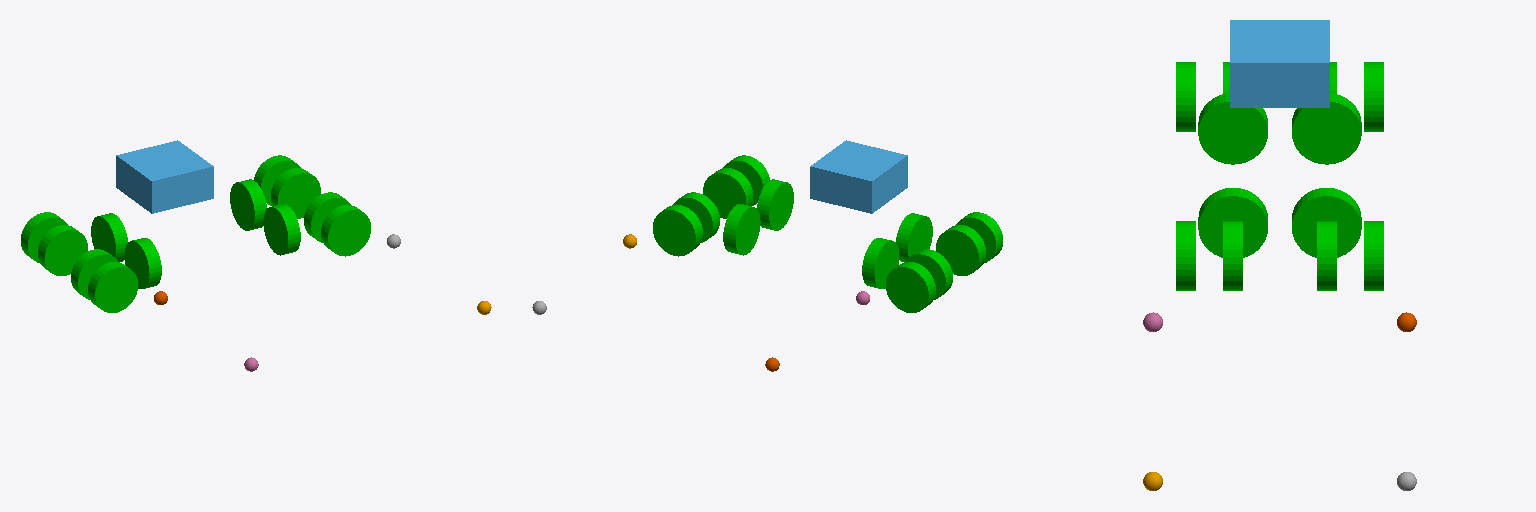
--- Facts derived from the render (not from the file) ---
The picture shows the robot from 3 angles, left to right: view 1: azimuth 30°, elevation 25°; view 2: azimuth 150°, elevation 25°; view 3: azimuth 270°, elevation 25°; orthographic projection.
Robot: go1 — 30 links, 29 joints (12 revolute, 17 fixed); root link trunk; default pose: all joints at 0 but 4 set to mid-range because 0 is outside their limits (FR_calf_joint = -1.85, FL_calf_joint = -1.85, RR_calf_joint = -1.85, RL_calf_joint = -1.85).
Links seen in each view (by area): view 1: computer, FR_calf_rotor, RR_calf_rotor, RL_thigh_rotor, FL_thigh_rotor, FR_hip_rotor, FL_hip_rotor, RR_hip_rotor, RL_hip_rotor, RL_calf_rotor, RR_thigh_rotor, FR_thigh_rotor (+1 smaller); view 2: computer, FL_calf_rotor, RL_calf_rotor, RR_thigh_rotor, FR_thigh_rotor, FL_hip_rotor, FR_hip_rotor, RL_hip_rotor, RR_hip_rotor, RR_calf_rotor, RL_thigh_rotor, FL_thigh_rotor (+1 smaller); view 3: computer, RR_hip_rotor, RL_hip_rotor, FR_hip_rotor, FL_hip_rotor, FR_thigh_rotor, FR_calf_rotor, FL_thigh_rotor, FL_calf_rotor, RR_calf_rotor, RL_calf_rotor.
Boxes of the visible links, left/top/right/bottom form: computer: left=116, top=140, right=213, bottom=213; FR_calf_rotor: left=321, top=205, right=370, bottom=256; RR_calf_rotor: left=88, top=262, right=137, bottom=312; RL_thigh_rotor: left=38, top=225, right=87, bottom=275; FL_thigh_rotor: left=271, top=168, right=320, bottom=218; FR_hip_rotor: left=263, top=204, right=300, bottom=255; FL_hip_rotor: left=230, top=179, right=266, bottom=230; RR_hip_rotor: left=125, top=238, right=161, bottom=288; RL_hip_rotor: left=91, top=213, right=127, bottom=261; RL_calf_rotor: left=21, top=212, right=67, bottom=262; RR_thigh_rotor: left=71, top=249, right=117, bottom=299; FR_thigh_rotor: left=304, top=192, right=350, bottom=242; computer: left=810, top=140, right=907, bottom=213; FL_calf_rotor: left=653, top=205, right=702, bottom=256; RL_calf_rotor: left=886, top=262, right=935, bottom=312; RR_thigh_rotor: left=936, top=225, right=985, bottom=275; FR_thigh_rotor: left=703, top=168, right=752, bottom=218; FL_hip_rotor: left=723, top=204, right=760, bottom=255; FR_hip_rotor: left=757, top=179, right=793, bottom=230; RL_hip_rotor: left=862, top=238, right=898, bottom=288; RR_hip_rotor: left=896, top=213, right=932, bottom=261; RR_calf_rotor: left=956, top=212, right=1002, bottom=262; RL_thigh_rotor: left=906, top=249, right=952, bottom=299; FL_thigh_rotor: left=673, top=192, right=719, bottom=242; computer: left=1230, top=20, right=1329, bottom=107; RR_hip_rotor: left=1198, top=93, right=1267, bottom=164; RL_hip_rotor: left=1292, top=93, right=1361, bottom=164; FR_hip_rotor: left=1198, top=188, right=1267, bottom=257; FL_hip_rotor: left=1292, top=188, right=1361, bottom=257; FR_thigh_rotor: left=1223, top=221, right=1242, bottom=290; FR_calf_rotor: left=1176, top=221, right=1195, bottom=290; FL_thigh_rotor: left=1317, top=221, right=1336, bottom=290; FL_calf_rotor: left=1364, top=221, right=1383, bottom=290; RR_calf_rotor: left=1176, top=62, right=1195, bottom=131; RL_calf_rotor: left=1364, top=62, right=1383, bottom=131.
Bounding box of the posed robot: 0.6257 × 0.2735 × 0.2886 m (x, y, z).
Meshes: 5 distinct files referenced, 0 mesh visuals loaded (none loaded); not drawn: 13 (reference not matched to a file when rendering).

robot.urdf — go1:
<?xml version="1.0" ?>
<robot name="go1">
  <material name="black">
    <color rgba="0.0 0.0 0.0 1.0"/>
  </material>
  <material name="blue">
    <color rgba="0.0 0.0 0.8 1.0"/>
  </material>
  <material name="green">
    <color rgba="0.0 0.8 0.0 1.0"/>
  </material>
  <material name="grey">
    <color rgba="0.2 0.2 0.2 1.0"/>
  </material>
  <material name="silver">
    <color rgba="0.9137254901960784 0.9137254901960784 0.8470588235294118 1.0"/>
  </material>
  <material name="orange">
    <color rgba="1.0 0.4235294117647059 0.0392156862745098 1.0"/>
  </material>
  <material name="brown">
    <color rgba="0.8705882352941177 0.8117647058823529 0.7647058823529411 1.0"/>
  </material>
  <material name="red">
    <color rgba="0.8 0.0 0.0 1.0"/>
  </material>
  <material name="white">
    <color rgba="1.0 1.0 1.0 1.0"/>
  </material>
  <link name="trunk">
    <visual>
      <origin rpy="0 0 0" xyz="0 0 0"/>
      <geometry>
        <mesh filename="package://./meshes/trunk.dae" scale="1 1 1"/>
      </geometry>
      <!-- <material name="orange"/> -->
    </visual>
    <collision>
      <origin rpy="0 0 0" xyz="0 0 0"/>
      <geometry>
        <box size="0.3762 0.0935 0.114"/>
      </geometry>
    </collision>
    <inertial>
      <origin rpy="0 0 0" xyz="0.0223 0.002 -0.0005"/>
      <mass value="5.204"/>
      <inertia ixx="0.0168128557" ixy="-0.0002296769" ixz="-0.0002945293" iyy="0.063009565" iyz="-4.18731e-05" izz="0.0716547275"/>
    </inertial>
  </link>
  <link name="computer">
    <visual>
      <origin rpy="0 0 0" xyz="0 0 0"/>
      <geometry>
        <box size="0.1 0.1 0.05"/>
      </geometry>
    </visual>
    <inertial>
      <origin rpy="0 0 0" xyz="0 0 0"/>
      <mass value="2"/>
      <inertia ixx="0.001" ixy="0" ixz="0" iyy="0.001" iyz="0" izz="0.001"/>
    </inertial>
  </link>
  <joint name="computer_joint" type="fixed">
    <origin rpy="0 0 0" xyz="-0.05 0 0.1"/>
    <parent link="trunk"/>
    <child link="computer"/>
  </joint>
  <joint name="FR_hip_joint" type="revolute">
    <origin rpy="0 0 0" xyz="0.1881 -0.04675 0"/>
    <parent link="trunk"/>
    <child link="FR_hip"/>
    <axis xyz="1 0 0"/>
    <dynamics damping="0.01" friction="0.2"/>
    <limit effort="23.7" lower="-0.863" upper="0.863" velocity="30.1"/>
  </joint>
  <joint name="FR_hip_rotor_joint" type="fixed">
    <origin rpy="0 0 0" xyz="0.11215 -0.04675 0"/>
    <parent link="trunk"/>
    <child link="FR_hip_rotor"/>
  </joint>
  <link name="FR_hip">
    <visual>
      <origin rpy="3.141592653589793 0 0" xyz="0 0 0"/>
      <geometry>
        <mesh filename="package://./meshes/hip.dae" scale="1 1 1"/>
      </geometry>
      <!-- <material name="orange"/> -->
    </visual>
    <collision>
      <origin rpy="1.5707963267948966 0 0" xyz="0 -0.08 0"/>
      <geometry>
        <cylinder length="0.04" radius="0.046"/>
      </geometry>
    </collision>
    <inertial>
      <origin rpy="0 0 0" xyz="-0.005657 0.008752 -0.000102"/>
      <mass value="0.591"/>
      <inertia ixx="0.000334008405" ixy="1.0826066e-05" ixz="1.290732e-06" iyy="0.000619101213" iyz="-1.643194e-06" izz="0.00040057614"/>
    </inertial>
  </link>
  <link name="FR_hip_rotor">
    <visual>
      <origin rpy="0 1.5707963267948966 0" xyz="0 0 0"/>
      <geometry>
        <cylinder length="0.02" radius="0.035"/>
      </geometry>
      <material name="green"/>
    </visual>
    <collision>
      <origin rpy="0 1.5707963267948966 0" xyz="0 0 0"/>
      <geometry>
        <cylinder length="0.02" radius="0.035"/>
      </geometry>
    </collision>
    <inertial>
      <origin rpy="0 0 0" xyz="0.0 0.0 0.0"/>
      <mass value="0.089"/>
      <inertia ixx="0.000111842" ixy="0.0" ixz="0.0" iyy="5.9647e-05" iyz="0.0" izz="5.9647e-05"/>
    </inertial>
  </link>
  <joint name="FR_thigh_joint" type="revolute">
    <origin rpy="0 0 0" xyz="0 -0.08 0"/>
    <parent link="FR_hip"/>
    <child link="FR_thigh"/>
    <axis xyz="0 1 0"/>
    <dynamics damping="0.01" friction="0.2"/>
    <limit effort="23.7" lower="-0.686" upper="4.501" velocity="30.1"/>
  </joint>
  <joint name="FR_thigh_rotor_joint" type="fixed">
    <origin rpy="0 0 0" xyz="0.0 0.00015 0"/>
    <parent link="FR_hip"/>
    <child link="FR_thigh_rotor"/>
  </joint>
  <link name="FR_thigh">
    <visual>
      <origin rpy="0 0 0" xyz="0 0 0"/>
      <geometry>
        <mesh filename="package://./meshes/thigh_mirror.dae" scale="1 1 1"/>
      </geometry>
      <!-- <material name="orange"/> -->
    </visual>
    <collision>
      <origin rpy="0 1.5707963267948966 0" xyz="0 0 -0.1065"/>
      <geometry>
        <box size="0.213 0.0245 0.034"/>
      </geometry>
    </collision>
    <inertial>
      <origin rpy="0 0 0" xyz="-0.003342 0.018054 -0.033451"/>
      <mass value="0.92"/>
      <inertia ixx="0.004431760472" ixy="-5.7496807e-05" ixz="-0.000218457134" iyy="0.004485671726" iyz="-0.000572001265" izz="0.000740309489"/>
    </inertial>
  </link>
  <link name="FR_thigh_rotor">
    <visual>
      <origin rpy="1.5707963267948966 0 0" xyz="0 0 0"/>
      <geometry>
        <cylinder length="0.02" radius="0.035"/>
      </geometry>
      <material name="green"/>
    </visual>
    <collision>
      <origin rpy="1.5707963267948966 0 0" xyz="0 0 0"/>
      <geometry>
        <cylinder length="0.02" radius="0.035"/>
      </geometry>
    </collision>
    <inertial>
      <origin rpy="0 0 0" xyz="0.0 0.0 0.0"/>
      <mass value="0.089"/>
      <inertia ixx="5.9647e-05" ixy="0.0" ixz="0.0" iyy="0.000111842" iyz="0.0" izz="5.9647e-05"/>
    </inertial>
  </link>
  <joint name="FR_calf_joint" type="revolute">
    <origin rpy="0 0 0" xyz="0 0 -0.213"/>
    <parent link="FR_thigh"/>
    <child link="FR_calf"/>
    <axis xyz="0 1 0"/>
    <dynamics damping="0.01" friction="0.2"/>
    <limit effort="35.55" lower="-2.818" upper="-0.888" velocity="20.06"/>
  </joint>
  <joint name="FR_calf_rotor_joint" type="fixed">
    <origin rpy="0 0 0" xyz="0.0 0.03235 0"/>
    <parent link="FR_thigh"/>
    <child link="FR_calf_rotor"/>
  </joint>
  <link name="FR_calf">
    <visual>
      <origin rpy="0 0 0" xyz="0 0 0"/>
      <geometry>
        <mesh filename="package://./meshes/calf.dae" scale="1 1 1"/>
      </geometry>
      <!-- <material name="orange"/> -->
    </visual>
    <collision>
      <origin rpy="0 1.5707963267948966 0" xyz="0 0 -0.1065"/>
      <geometry>
        <box size="0.213 0.016 0.016"/>
      </geometry>
    </collision>
    <inertial>
      <origin rpy="0 0 0" xyz="0.006197 0.001408 -0.116695"/>
      <mass value="0.135862"/>
      <inertia ixx="0.001088793059" ixy="-2.55679e-07" ixz="7.117814e-06" iyy="0.001100428748" iyz="2.077264e-06" izz="2.4787446e-05"/>
    </inertial>
  </link>
  <link name="FR_calf_rotor">
    <visual>
      <origin rpy="1.5707963267948966 0 0" xyz="0 0 0"/>
      <geometry>
        <cylinder length="0.02" radius="0.035"/>
      </geometry>
      <material name="green"/>
    </visual>
    <collision>
      <origin rpy="1.5707963267948966 0 0" xyz="0 0 0"/>
      <geometry>
        <cylinder length="0.02" radius="0.035"/>
      </geometry>
    </collision>
    <inertial>
      <origin rpy="0 0 0" xyz="0.0 0.0 0.0"/>
      <mass value="0.089"/>
      <inertia ixx="5.9647e-05" ixy="0.0" ixz="0.0" iyy="0.000111842" iyz="0.0" izz="5.9647e-05"/>
    </inertial>
  </link>
  <joint name="FR_foot_fixed" type="fixed">
    <origin rpy="0 0 0" xyz="0 0 -0.213"/>
    <parent link="FR_calf"/>
    <child link="FR_foot"/>
  </joint>
  <link name="FR_foot">
    <visual>
      <origin rpy="0 0 0" xyz="0 0 0"/>
      <geometry>
        <sphere radius="0.01"/>
      </geometry>
      <!-- <material name="orange"/> -->
    </visual>
    <collision>
      <origin rpy="0 0 0" xyz="0 0 0"/>
      <geometry>
        <sphere radius="0.02"/>
      </geometry>
    </collision>
    <inertial>
      <mass value="0.06"/>
      <inertia ixx="9.600000000000001e-06" ixy="0.0" ixz="0.0" iyy="9.600000000000001e-06" iyz="0.0" izz="9.600000000000001e-06"/>
    </inertial>
  </link>
  <joint name="FL_hip_joint" type="revolute">
    <origin rpy="0 0 0" xyz="0.1881 0.04675 0"/>
    <parent link="trunk"/>
    <child link="FL_hip"/>
    <axis xyz="1 0 0"/>
    <dynamics damping="0.01" friction="0.2"/>
    <limit effort="23.7" lower="-0.863" upper="0.863" velocity="30.1"/>
  </joint>
  <joint name="FL_hip_rotor_joint" type="fixed">
    <origin rpy="0 0 0" xyz="0.11215 0.04675 0"/>
    <parent link="trunk"/>
    <child link="FL_hip_rotor"/>
  </joint>
  <link name="FL_hip">
    <visual>
      <origin rpy="0 0 0" xyz="0 0 0"/>
      <geometry>
        <mesh filename="package://./meshes/hip.dae" scale="1 1 1"/>
      </geometry>
      <!-- <material name="orange"/> -->
    </visual>
    <collision>
      <origin rpy="1.5707963267948966 0 0" xyz="0 0.08 0"/>
      <geometry>
        <cylinder length="0.04" radius="0.046"/>
      </geometry>
    </collision>
    <inertial>
      <origin rpy="0 0 0" xyz="-0.005657 -0.008752 -0.000102"/>
      <mass value="0.591"/>
      <inertia ixx="0.000334008405" ixy="-1.0826066e-05" ixz="1.290732e-06" iyy="0.000619101213" iyz="1.643194e-06" izz="0.00040057614"/>
    </inertial>
  </link>
  <link name="FL_hip_rotor">
    <visual>
      <origin rpy="0 1.5707963267948966 0" xyz="0 0 0"/>
      <geometry>
        <cylinder length="0.02" radius="0.035"/>
      </geometry>
      <material name="green"/>
    </visual>
    <collision>
      <origin rpy="0 1.5707963267948966 0" xyz="0 0 0"/>
      <geometry>
        <cylinder length="0.02" radius="0.035"/>
      </geometry>
    </collision>
    <inertial>
      <origin rpy="0 0 0" xyz="0.0 0.0 0.0"/>
      <mass value="0.089"/>
      <inertia ixx="0.000111842" ixy="0.0" ixz="0.0" iyy="5.9647e-05" iyz="0.0" izz="5.9647e-05"/>
    </inertial>
  </link>
  <joint name="FL_thigh_joint" type="revolute">
    <origin rpy="0 0 0" xyz="0 0.08 0"/>
    <parent link="FL_hip"/>
    <child link="FL_thigh"/>
    <axis xyz="0 1 0"/>
    <dynamics damping="0.01" friction="0.2"/>
    <limit effort="23.7" lower="-0.686" upper="4.501" velocity="30.1"/>
  </joint>
  <joint name="FL_thigh_rotor_joint" type="fixed">
    <origin rpy="0 0 0" xyz="0.0 -0.00015 0"/>
    <parent link="FL_hip"/>
    <child link="FL_thigh_rotor"/>
  </joint>
  <link name="FL_thigh">
    <visual>
      <origin rpy="0 0 0" xyz="0 0 0"/>
      <geometry>
        <mesh filename="package://./meshes/thigh.dae" scale="1 1 1"/>
      </geometry>
      <!-- <material name="orange"/> -->
    </visual>
    <collision>
      <origin rpy="0 1.5707963267948966 0" xyz="0 0 -0.1065"/>
      <geometry>
        <box size="0.213 0.0245 0.034"/>
      </geometry>
    </collision>
    <inertial>
      <origin rpy="0 0 0" xyz="-0.003342 -0.018054 -0.033451"/>
      <mass value="0.92"/>
      <inertia ixx="0.004431760472" ixy="5.7496807e-05" ixz="-0.000218457134" iyy="0.004485671726" iyz="0.000572001265" izz="0.000740309489"/>
    </inertial>
  </link>
  <link name="FL_thigh_rotor">
    <visual>
      <origin rpy="1.5707963267948966 0 0" xyz="0 0 0"/>
      <geometry>
        <cylinder length="0.02" radius="0.035"/>
      </geometry>
      <material name="green"/>
    </visual>
    <collision>
      <origin rpy="1.5707963267948966 0 0" xyz="0 0 0"/>
      <geometry>
        <cylinder length="0.02" radius="0.035"/>
      </geometry>
    </collision>
    <inertial>
      <origin rpy="0 0 0" xyz="0.0 0.0 0.0"/>
      <mass value="0.089"/>
      <inertia ixx="5.9647e-05" ixy="0.0" ixz="0.0" iyy="0.000111842" iyz="0.0" izz="5.9647e-05"/>
    </inertial>
  </link>
  <joint name="FL_calf_joint" type="revolute">
    <origin rpy="0 0 0" xyz="0 0 -0.213"/>
    <parent link="FL_thigh"/>
    <child link="FL_calf"/>
    <axis xyz="0 1 0"/>
    <dynamics damping="0.01" friction="0.2"/>
    <limit effort="35.55" lower="-2.818" upper="-0.888" velocity="20.06"/>
  </joint>
  <joint name="FL_calf_rotor_joint" type="fixed">
    <origin rpy="0 0 0" xyz="0.0 -0.03235 0"/>
    <parent link="FL_thigh"/>
    <child link="FL_calf_rotor"/>
  </joint>
  <link name="FL_calf">
    <visual>
      <origin rpy="0 0 0" xyz="0 0 0"/>
      <geometry>
        <mesh filename="package://./meshes/calf.dae" scale="1 1 1"/>
      </geometry>
      <!-- <material name="orange"/> -->
    </visual>
    <collision>
      <origin rpy="0 1.5707963267948966 0" xyz="0 0 -0.1065"/>
      <geometry>
        <box size="0.213 0.016 0.016"/>
      </geometry>
    </collision>
    <inertial>
      <origin rpy="0 0 0" xyz="0.006197 0.001408 -0.116695"/>
      <mass value="0.135862"/>
      <inertia ixx="0.001088793059" ixy="-2.55679e-07" ixz="7.117814e-06" iyy="0.001100428748" iyz="2.077264e-06" izz="2.4787446e-05"/>
    </inertial>
  </link>
  <link name="FL_calf_rotor">
    <visual>
      <origin rpy="1.5707963267948966 0 0" xyz="0 0 0"/>
      <geometry>
        <cylinder length="0.02" radius="0.035"/>
      </geometry>
      <material name="green"/>
    </visual>
    <collision>
      <origin rpy="1.5707963267948966 0 0" xyz="0 0 0"/>
      <geometry>
        <cylinder length="0.02" radius="0.035"/>
      </geometry>
    </collision>
    <inertial>
      <origin rpy="0 0 0" xyz="0.0 0.0 0.0"/>
      <mass value="0.089"/>
      <inertia ixx="5.9647e-05" ixy="0.0" ixz="0.0" iyy="0.000111842" iyz="0.0" izz="5.9647e-05"/>
    </inertial>
  </link>
  <joint name="FL_foot_fixed" type="fixed">
    <origin rpy="0 0 0" xyz="0 0 -0.213"/>
    <parent link="FL_calf"/>
    <child link="FL_foot"/>
  </joint>
  <link name="FL_foot">
    <visual>
      <origin rpy="0 0 0" xyz="0 0 0"/>
      <geometry>
        <sphere radius="0.01"/>
      </geometry>
      <!-- <material name="orange"/> -->
    </visual>
    <collision>
      <origin rpy="0 0 0" xyz="0 0 0"/>
      <geometry>
        <sphere radius="0.02"/>
      </geometry>
    </collision>
    <inertial>
      <mass value="0.06"/>
      <inertia ixx="9.600000000000001e-06" ixy="0.0" ixz="0.0" iyy="9.600000000000001e-06" iyz="0.0" izz="9.600000000000001e-06"/>
    </inertial>
  </link>
  <joint name="RR_hip_joint" type="revolute">
    <origin rpy="0 0 0" xyz="-0.1881 -0.04675 0"/>
    <parent link="trunk"/>
    <child link="RR_hip"/>
    <axis xyz="1 0 0"/>
    <dynamics damping="0.01" friction="0.2"/>
    <limit effort="23.7" lower="-0.863" upper="0.863" velocity="30.1"/>
  </joint>
  <joint name="RR_hip_rotor_joint" type="fixed">
    <origin rpy="0 0 0" xyz="-0.11215 -0.04675 0"/>
    <parent link="trunk"/>
    <child link="RR_hip_rotor"/>
  </joint>
  <link name="RR_hip">
    <visual>
      <origin rpy="3.141592653589793 3.141592653589793 0" xyz="0 0 0"/>
      <geometry>
        <mesh filename="package://./meshes/hip.dae" scale="1 1 1"/>
      </geometry>
      <!-- <material name="orange"/> -->
    </visual>
    <collision>
      <origin rpy="1.5707963267948966 0 0" xyz="0 -0.08 0"/>
      <geometry>
        <cylinder length="0.04" radius="0.046"/>
      </geometry>
    </collision>
    <inertial>
      <origin rpy="0 0 0" xyz="0.005657 0.008752 -0.000102"/>
      <mass value="0.591"/>
      <inertia ixx="0.000334008405" ixy="-1.0826066e-05" ixz="-1.290732e-06" iyy="0.000619101213" iyz="-1.643194e-06" izz="0.00040057614"/>
    </inertial>
  </link>
  <link name="RR_hip_rotor">
    <visual>
      <origin rpy="0 1.5707963267948966 0" xyz="0 0 0"/>
      <geometry>
        <cylinder length="0.02" radius="0.035"/>
      </geometry>
      <material name="green"/>
    </visual>
    <collision>
      <origin rpy="0 1.5707963267948966 0" xyz="0 0 0"/>
      <geometry>
        <cylinder length="0.02" radius="0.035"/>
      </geometry>
    </collision>
    <inertial>
      <origin rpy="0 0 0" xyz="0.0 0.0 0.0"/>
      <mass value="0.089"/>
      <inertia ixx="0.000111842" ixy="0.0" ixz="0.0" iyy="5.9647e-05" iyz="0.0" izz="5.9647e-05"/>
    </inertial>
  </link>
  <joint name="RR_thigh_joint" type="revolute">
    <origin rpy="0 0 0" xyz="0 -0.08 0"/>
    <parent link="RR_hip"/>
    <child link="RR_thigh"/>
    <axis xyz="0 1 0"/>
    <dynamics damping="0.01" friction="0.2"/>
    <limit effort="23.7" lower="-0.686" upper="4.501" velocity="30.1"/>
  </joint>
  <joint name="RR_thigh_rotor_joint" type="fixed">
    <origin rpy="0 0 0" xyz="0.0 0.00015 0"/>
    <parent link="RR_hip"/>
    <child link="RR_thigh_rotor"/>
  </joint>
  <link name="RR_thigh">
    <visual>
      <origin rpy="0 0 0" xyz="0 0 0"/>
      <geometry>
        <mesh filename="package://./meshes/thigh_mirror.dae" scale="1 1 1"/>
      </geometry>
      <!-- <material name="orange"/> -->
    </visual>
    <collision>
      <origin rpy="0 1.5707963267948966 0" xyz="0 0 -0.1065"/>
      <geometry>
        <box size="0.213 0.0245 0.034"/>
      </geometry>
    </collision>
    <inertial>
      <origin rpy="0 0 0" xyz="-0.003342 0.018054 -0.033451"/>
      <mass value="0.92"/>
      <inertia ixx="0.004431760472" ixy="-5.7496807e-05" ixz="-0.000218457134" iyy="0.004485671726" iyz="-0.000572001265" izz="0.000740309489"/>
    </inertial>
  </link>
  <link name="RR_thigh_rotor">
    <visual>
      <origin rpy="1.5707963267948966 0 0" xyz="0 0 0"/>
      <geometry>
        <cylinder length="0.02" radius="0.035"/>
      </geometry>
      <material name="green"/>
    </visual>
    <collision>
      <origin rpy="1.5707963267948966 0 0" xyz="0 0 0"/>
      <geometry>
        <cylinder length="0.02" radius="0.035"/>
      </geometry>
    </collision>
    <inertial>
      <origin rpy="0 0 0" xyz="0.0 0.0 0.0"/>
      <mass value="0.089"/>
      <inertia ixx="5.9647e-05" ixy="0.0" ixz="0.0" iyy="0.000111842" iyz="0.0" izz="5.9647e-05"/>
    </inertial>
  </link>
  <joint name="RR_calf_joint" type="revolute">
    <origin rpy="0 0 0" xyz="0 0 -0.213"/>
    <parent link="RR_thigh"/>
    <child link="RR_calf"/>
    <axis xyz="0 1 0"/>
    <dynamics damping="0.01" friction="0.2"/>
    <limit effort="35.55" lower="-2.818" upper="-0.888" velocity="20.06"/>
  </joint>
  <joint name="RR_calf_rotor_joint" type="fixed">
    <origin rpy="0 0 0" xyz="0.0 0.03235 0"/>
    <parent link="RR_thigh"/>
    <child link="RR_calf_rotor"/>
  </joint>
  <link name="RR_calf">
    <visual>
      <origin rpy="0 0 0" xyz="0 0 0"/>
      <geometry>
        <mesh filename="package://./meshes/calf.dae" scale="1 1 1"/>
      </geometry>
      <!-- <material name="orange"/> -->
    </visual>
    <collision>
      <origin rpy="0 1.5707963267948966 0" xyz="0 0 -0.1065"/>
      <geometry>
        <box size="0.213 0.016 0.016"/>
      </geometry>
    </collision>
    <inertial>
      <origin rpy="0 0 0" xyz="0.006197 0.001408 -0.116695"/>
      <mass value="0.135862"/>
      <inertia ixx="0.001088793059" ixy="-2.55679e-07" ixz="7.117814e-06" iyy="0.001100428748" iyz="2.077264e-06" izz="2.4787446e-05"/>
    </inertial>
  </link>
  <link name="RR_calf_rotor">
    <visual>
      <origin rpy="1.5707963267948966 0 0" xyz="0 0 0"/>
      <geometry>
        <cylinder length="0.02" radius="0.035"/>
      </geometry>
      <material name="green"/>
    </visual>
    <collision>
      <origin rpy="1.5707963267948966 0 0" xyz="0 0 0"/>
      <geometry>
        <cylinder length="0.02" radius="0.035"/>
      </geometry>
    </collision>
    <inertial>
      <origin rpy="0 0 0" xyz="0.0 0.0 0.0"/>
      <mass value="0.089"/>
      <inertia ixx="5.9647e-05" ixy="0.0" ixz="0.0" iyy="0.000111842" iyz="0.0" izz="5.9647e-05"/>
    </inertial>
  </link>
  <joint name="RR_foot_fixed" type="fixed">
    <origin rpy="0 0 0" xyz="0 0 -0.213"/>
    <parent link="RR_calf"/>
    <child link="RR_foot"/>
  </joint>
  <link name="RR_foot">
    <visual>
      <origin rpy="0 0 0" xyz="0 0 0"/>
      <geometry>
        <sphere radius="0.01"/>
      </geometry>
      <!-- <material name="orange"/> -->
    </visual>
    <collision>
      <origin rpy="0 0 0" xyz="0 0 0"/>
      <geometry>
        <sphere radius="0.02"/>
      </geometry>
    </collision>
    <inertial>
      <mass value="0.06"/>
      <inertia ixx="9.600000000000001e-06" ixy="0.0" ixz="0.0" iyy="9.600000000000001e-06" iyz="0.0" izz="9.600000000000001e-06"/>
    </inertial>
  </link>
  <joint name="RL_hip_joint" type="revolute">
    <origin rpy="0 0 0" xyz="-0.1881 0.04675 0"/>
    <parent link="trunk"/>
    <child link="RL_hip"/>
    <axis xyz="1 0 0"/>
    <dynamics damping="0.01" friction="0.2"/>
    <limit effort="23.7" lower="-0.863" upper="0.863" velocity="30.1"/>
  </joint>
  <joint name="RL_hip_rotor_joint" type="fixed">
    <origin rpy="0 0 0" xyz="-0.11215 0.04675 0"/>
    <parent link="trunk"/>
    <child link="RL_hip_rotor"/>
  </joint>
  <link name="RL_hip">
    <visual>
      <origin rpy="0 3.141592653589793 0" xyz="0 0 0"/>
      <geometry>
        <mesh filename="package://./meshes/hip.dae" scale="1 1 1"/>
      </geometry>
      <!-- <material name="orange"/> -->
    </visual>
    <collision>
      <origin rpy="1.5707963267948966 0 0" xyz="0 0.08 0"/>
      <geometry>
        <cylinder length="0.04" radius="0.046"/>
      </geometry>
    </collision>
    <inertial>
      <origin rpy="0 0 0" xyz="0.005657 -0.008752 -0.000102"/>
      <mass value="0.591"/>
      <inertia ixx="0.000334008405" ixy="1.0826066e-05" ixz="-1.290732e-06" iyy="0.000619101213" iyz="1.643194e-06" izz="0.00040057614"/>
    </inertial>
  </link>
  <link name="RL_hip_rotor">
    <visual>
      <origin rpy="0 1.5707963267948966 0" xyz="0 0 0"/>
      <geometry>
        <cylinder length="0.02" radius="0.035"/>
      </geometry>
      <material name="green"/>
    </visual>
    <collision>
      <origin rpy="0 1.5707963267948966 0" xyz="0 0 0"/>
      <geometry>
        <cylinder length="0.02" radius="0.035"/>
      </geometry>
    </collision>
    <inertial>
      <origin rpy="0 0 0" xyz="0.0 0.0 0.0"/>
      <mass value="0.089"/>
      <inertia ixx="0.000111842" ixy="0.0" ixz="0.0" iyy="5.9647e-05" iyz="0.0" izz="5.9647e-05"/>
    </inertial>
  </link>
  <joint name="RL_thigh_joint" type="revolute">
    <origin rpy="0 0 0" xyz="0 0.08 0"/>
    <parent link="RL_hip"/>
    <child link="RL_thigh"/>
    <axis xyz="0 1 0"/>
    <dynamics damping="0.01" friction="0.2"/>
    <limit effort="23.7" lower="-0.686" upper="4.501" velocity="30.1"/>
  </joint>
  <joint name="RL_thigh_rotor_joint" type="fixed">
    <origin rpy="0 0 0" xyz="0.0 -0.00015 0"/>
    <parent link="RL_hip"/>
    <child link="RL_thigh_rotor"/>
  </joint>
  <link name="RL_thigh">
    <visual>
      <origin rpy="0 0 0" xyz="0 0 0"/>
      <geometry>
        <mesh filename="package://./meshes/thigh.dae" scale="1 1 1"/>
      </geometry>
      <!-- <material name="orange"/> -->
    </visual>
    <collision>
      <origin rpy="0 1.5707963267948966 0" xyz="0 0 -0.1065"/>
      <geometry>
        <box size="0.213 0.0245 0.034"/>
      </geometry>
    </collision>
    <inertial>
      <origin rpy="0 0 0" xyz="-0.003342 -0.018054 -0.033451"/>
      <mass value="0.92"/>
      <inertia ixx="0.004431760472" ixy="5.7496807e-05" ixz="-0.000218457134" iyy="0.004485671726" iyz="0.000572001265" izz="0.000740309489"/>
    </inertial>
  </link>
  <link name="RL_thigh_rotor">
    <visual>
      <origin rpy="1.5707963267948966 0 0" xyz="0 0 0"/>
      <geometry>
        <cylinder length="0.02" radius="0.035"/>
      </geometry>
      <material name="green"/>
    </visual>
    <collision>
      <origin rpy="1.5707963267948966 0 0" xyz="0 0 0"/>
      <geometry>
        <cylinder length="0.02" radius="0.035"/>
      </geometry>
    </collision>
    <inertial>
      <origin rpy="0 0 0" xyz="0.0 0.0 0.0"/>
      <mass value="0.089"/>
      <inertia ixx="5.9647e-05" ixy="0.0" ixz="0.0" iyy="0.000111842" iyz="0.0" izz="5.9647e-05"/>
    </inertial>
  </link>
  <joint name="RL_calf_joint" type="revolute">
    <origin rpy="0 0 0" xyz="0 0 -0.213"/>
    <parent link="RL_thigh"/>
    <child link="RL_calf"/>
    <axis xyz="0 1 0"/>
    <dynamics damping="0.01" friction="0.2"/>
    <limit effort="35.55" lower="-2.818" upper="-0.888" velocity="20.06"/>
  </joint>
  <joint name="RL_calf_rotor_joint" type="fixed">
    <origin rpy="0 0 0" xyz="0.0 -0.03235 0"/>
    <parent link="RL_thigh"/>
    <child link="RL_calf_rotor"/>
  </joint>
  <link name="RL_calf">
    <visual>
      <origin rpy="0 0 0" xyz="0 0 0"/>
      <geometry>
        <mesh filename="package://./meshes/calf.dae" scale="1 1 1"/>
      </geometry>
      <!-- <material name="orange"/> -->
    </visual>
    <collision>
      <origin rpy="0 1.5707963267948966 0" xyz="0 0 -0.1065"/>
      <geometry>
        <box size="0.213 0.016 0.016"/>
      </geometry>
    </collision>
    <inertial>
      <origin rpy="0 0 0" xyz="0.006197 0.001408 -0.116695"/>
      <mass value="0.135862"/>
      <inertia ixx="0.001088793059" ixy="-2.55679e-07" ixz="7.117814e-06" iyy="0.001100428748" iyz="2.077264e-06" izz="2.4787446e-05"/>
    </inertial>
  </link>
  <link name="RL_calf_rotor">
    <visual>
      <origin rpy="1.5707963267948966 0 0" xyz="0 0 0"/>
      <geometry>
        <cylinder length="0.02" radius="0.035"/>
      </geometry>
      <material name="green"/>
    </visual>
    <collision>
      <origin rpy="1.5707963267948966 0 0" xyz="0 0 0"/>
      <geometry>
        <cylinder length="0.02" radius="0.035"/>
      </geometry>
    </collision>
    <inertial>
      <origin rpy="0 0 0" xyz="0.0 0.0 0.0"/>
      <mass value="0.089"/>
      <inertia ixx="5.9647e-05" ixy="0.0" ixz="0.0" iyy="0.000111842" iyz="0.0" izz="5.9647e-05"/>
    </inertial>
  </link>
  <joint name="RL_foot_fixed" type="fixed">
    <origin rpy="0 0 0" xyz="0 0 -0.213"/>
    <parent link="RL_calf"/>
    <child link="RL_foot"/>
  </joint>
  <link name="RL_foot">
    <visual>
      <origin rpy="0 0 0" xyz="0 0 0"/>
      <geometry>
        <sphere radius="0.01"/>
      </geometry>
      <!-- <material name="orange"/> -->
    </visual>
    <collision>
      <origin rpy="0 0 0" xyz="0 0 0"/>
      <geometry>
        <sphere radius="0.02"/>
      </geometry>
    </collision>
    <inertial>
      <mass value="0.06"/>
      <inertia ixx="9.600000000000001e-06" ixy="0.0" ixz="0.0" iyy="9.600000000000001e-06" iyz="0.0" izz="9.600000000000001e-06"/>
    </inertial>
  </link>
</robot>
